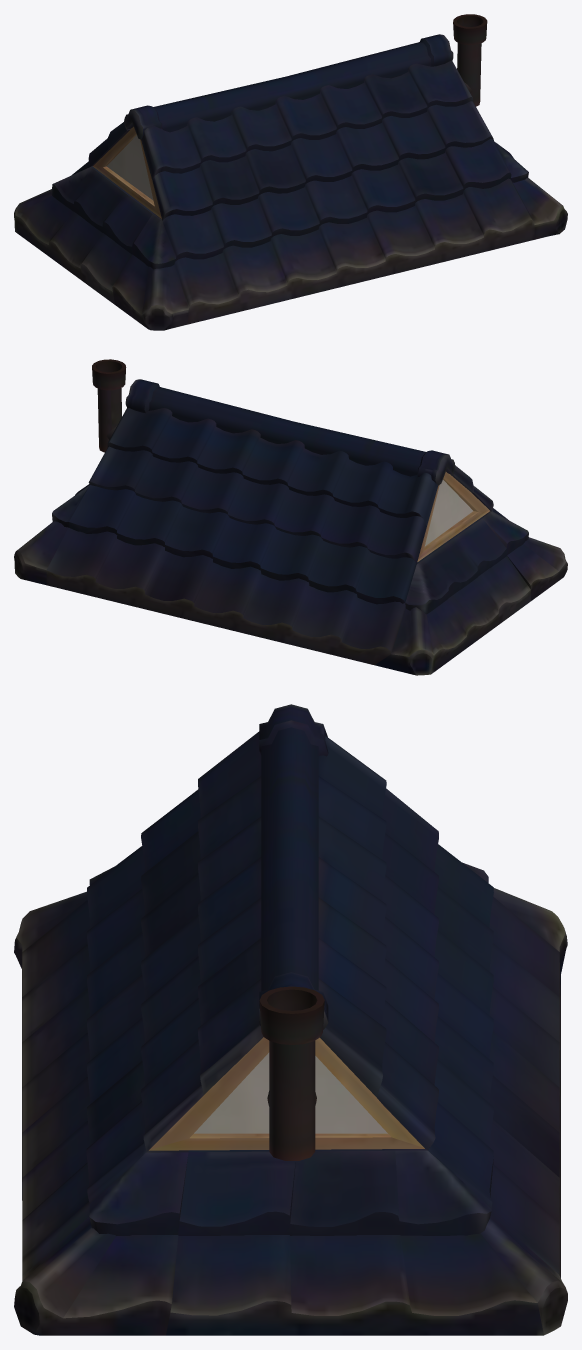
The model's file is roof-nc-japanese.glb.
The picture shows the model from 3 angles, top to bottom: view 1: azimuth 30°, elevation 25°; view 2: azimuth 150°, elevation 25°; view 3: azimuth 270°, elevation 25°; orthographic projection. The views are drawn at different scales.
Size of the model in its own units: 40.31 by 14.99 by 24.25.
Materials: 1 (1 with a texture image).
